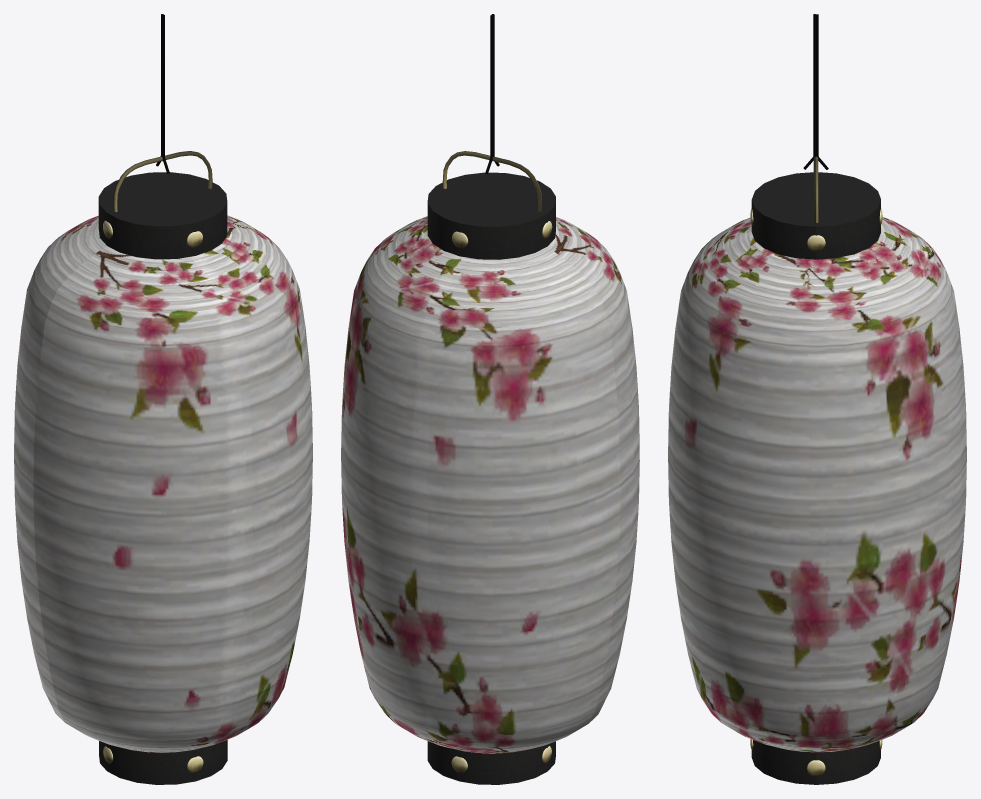
File: Lantern2.b.fbx
The picture shows the model from 3 angles, left to right: view 1: azimuth 30°, elevation 25°; view 2: azimuth 150°, elevation 25°; view 3: azimuth 270°, elevation 25°; orthographic projection.
Visible parts, largest first — view 1: Group 0; view 2: Group 0; view 3: Group 0.
Boxes of the visible parts, x1=… form: Group 0: x1=14, y1=14, x2=312, y2=784; Group 0: x1=341, y1=14, x2=639, y2=784; Group 0: x1=668, y1=14, x2=966, y2=784.
Bounding box in the file's own units: 45.99 × 125 × 45.74.
1 material, 1 textured.
